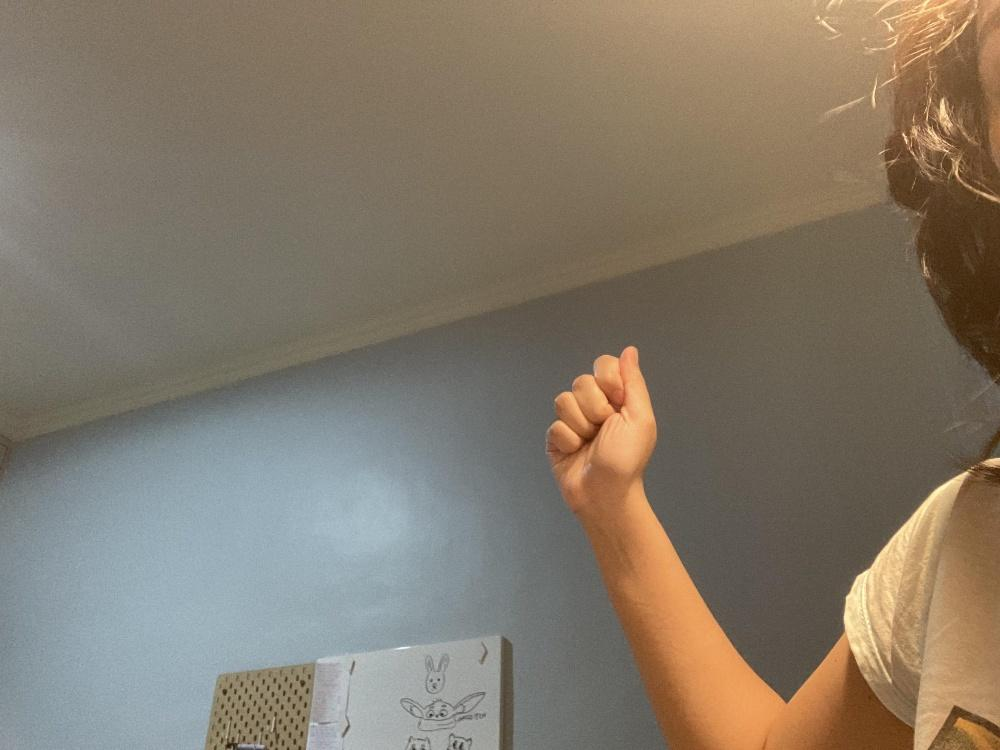a: (544, 345, 656, 510)
